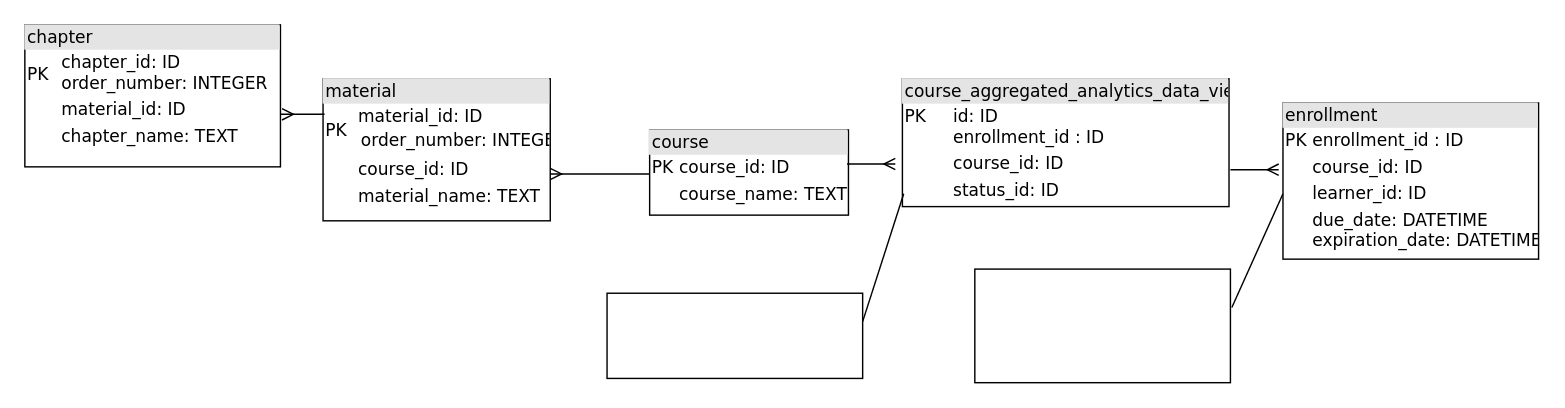
The diagram is 1565 pixels wide and 408 high, and some of its shapes have lost their labels. Each missing label, with the centre of its shape:
course_status PK status_id: ID PK status_text: TEXT: the point at 734,335
learner PK learner_id: ID learner_name: TEXT learner_email: TEXT: the point at 1101,325
